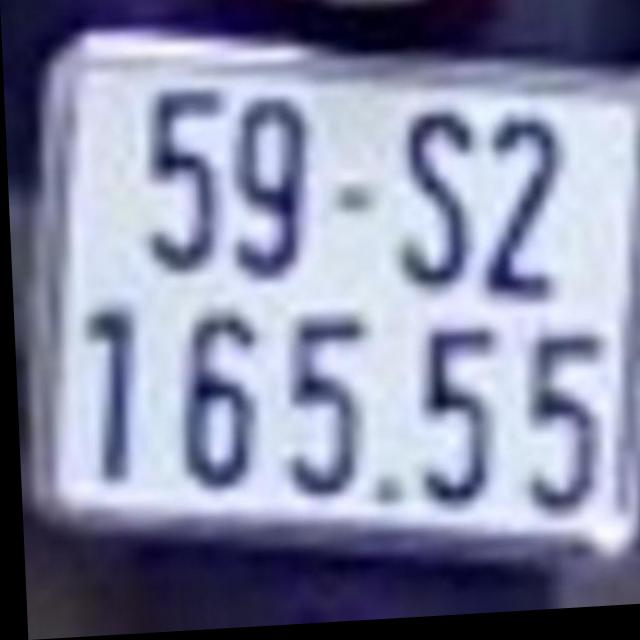1: (77, 301, 129, 479)
2: (480, 122, 556, 308)
5: (520, 341, 604, 522), (143, 82, 219, 272), (419, 333, 495, 516), (285, 324, 357, 504)
6: (174, 315, 252, 497)
9: (228, 97, 303, 281)
S: (399, 114, 470, 296)
